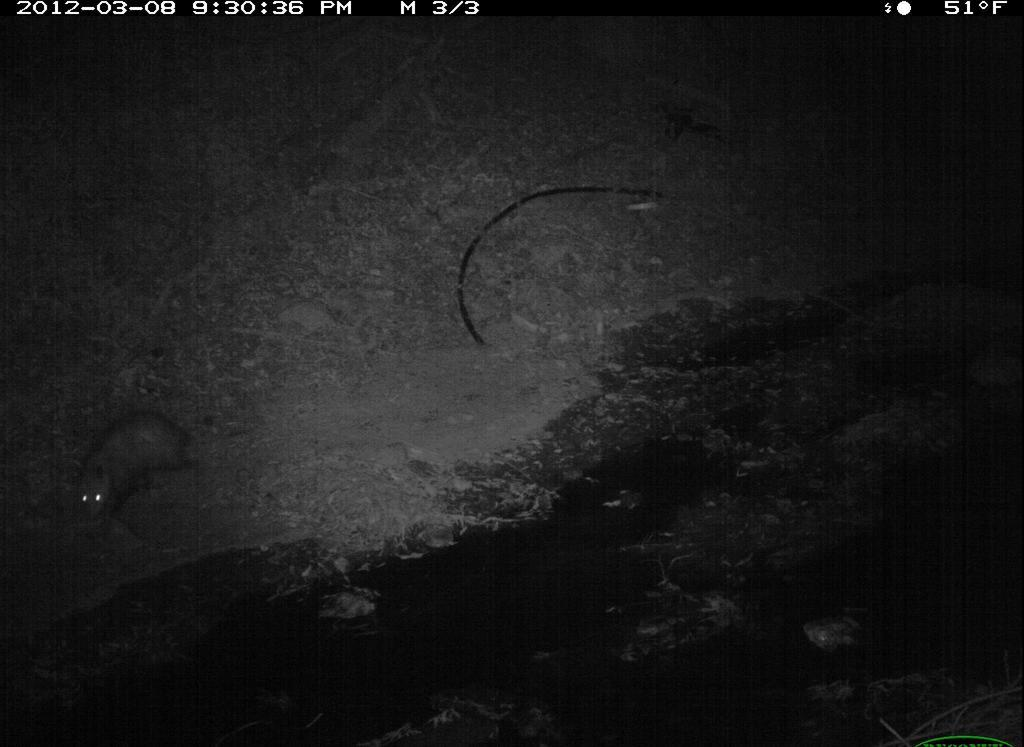opossum: (71, 393, 207, 536)
